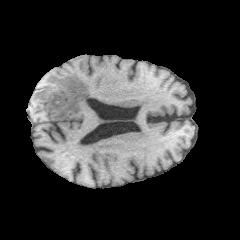glioma: (30, 73, 92, 120)
